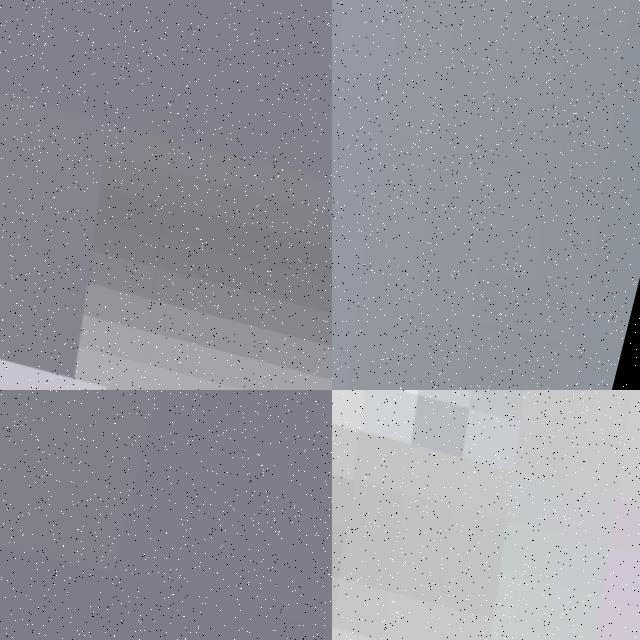drone: (0, 0, 332, 390), (332, 0, 640, 390), (332, 390, 640, 640)
